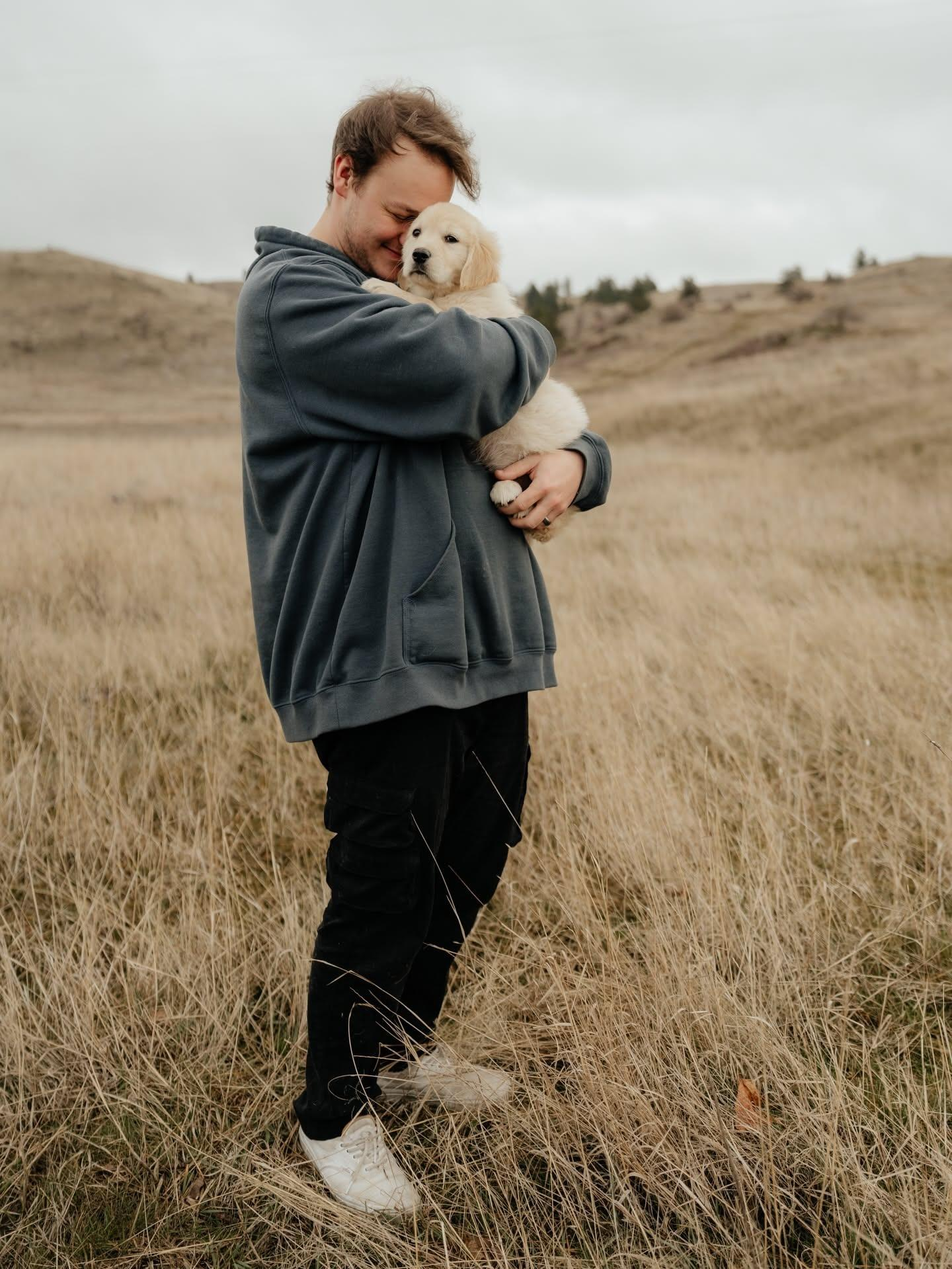non-dog: (229, 83, 612, 1221)
puppy-dog: (360, 202, 590, 546)
